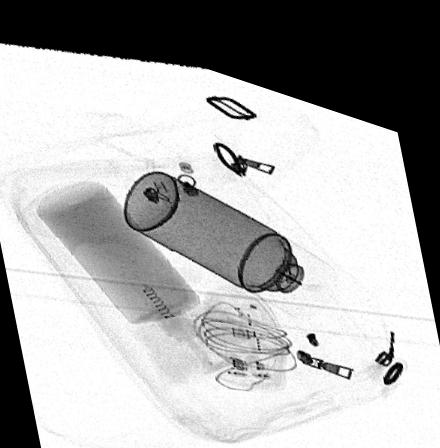Sprayer: (123, 160, 338, 297)
